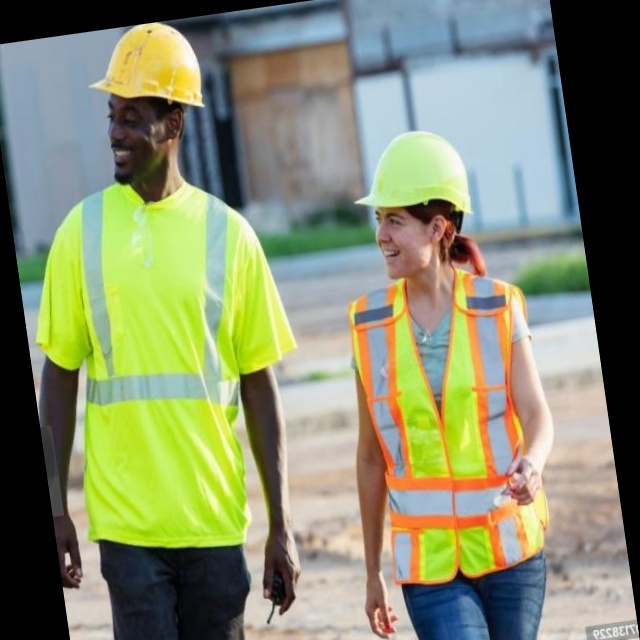Con_Chaleco: (44, 166, 284, 544), (345, 267, 550, 600)
